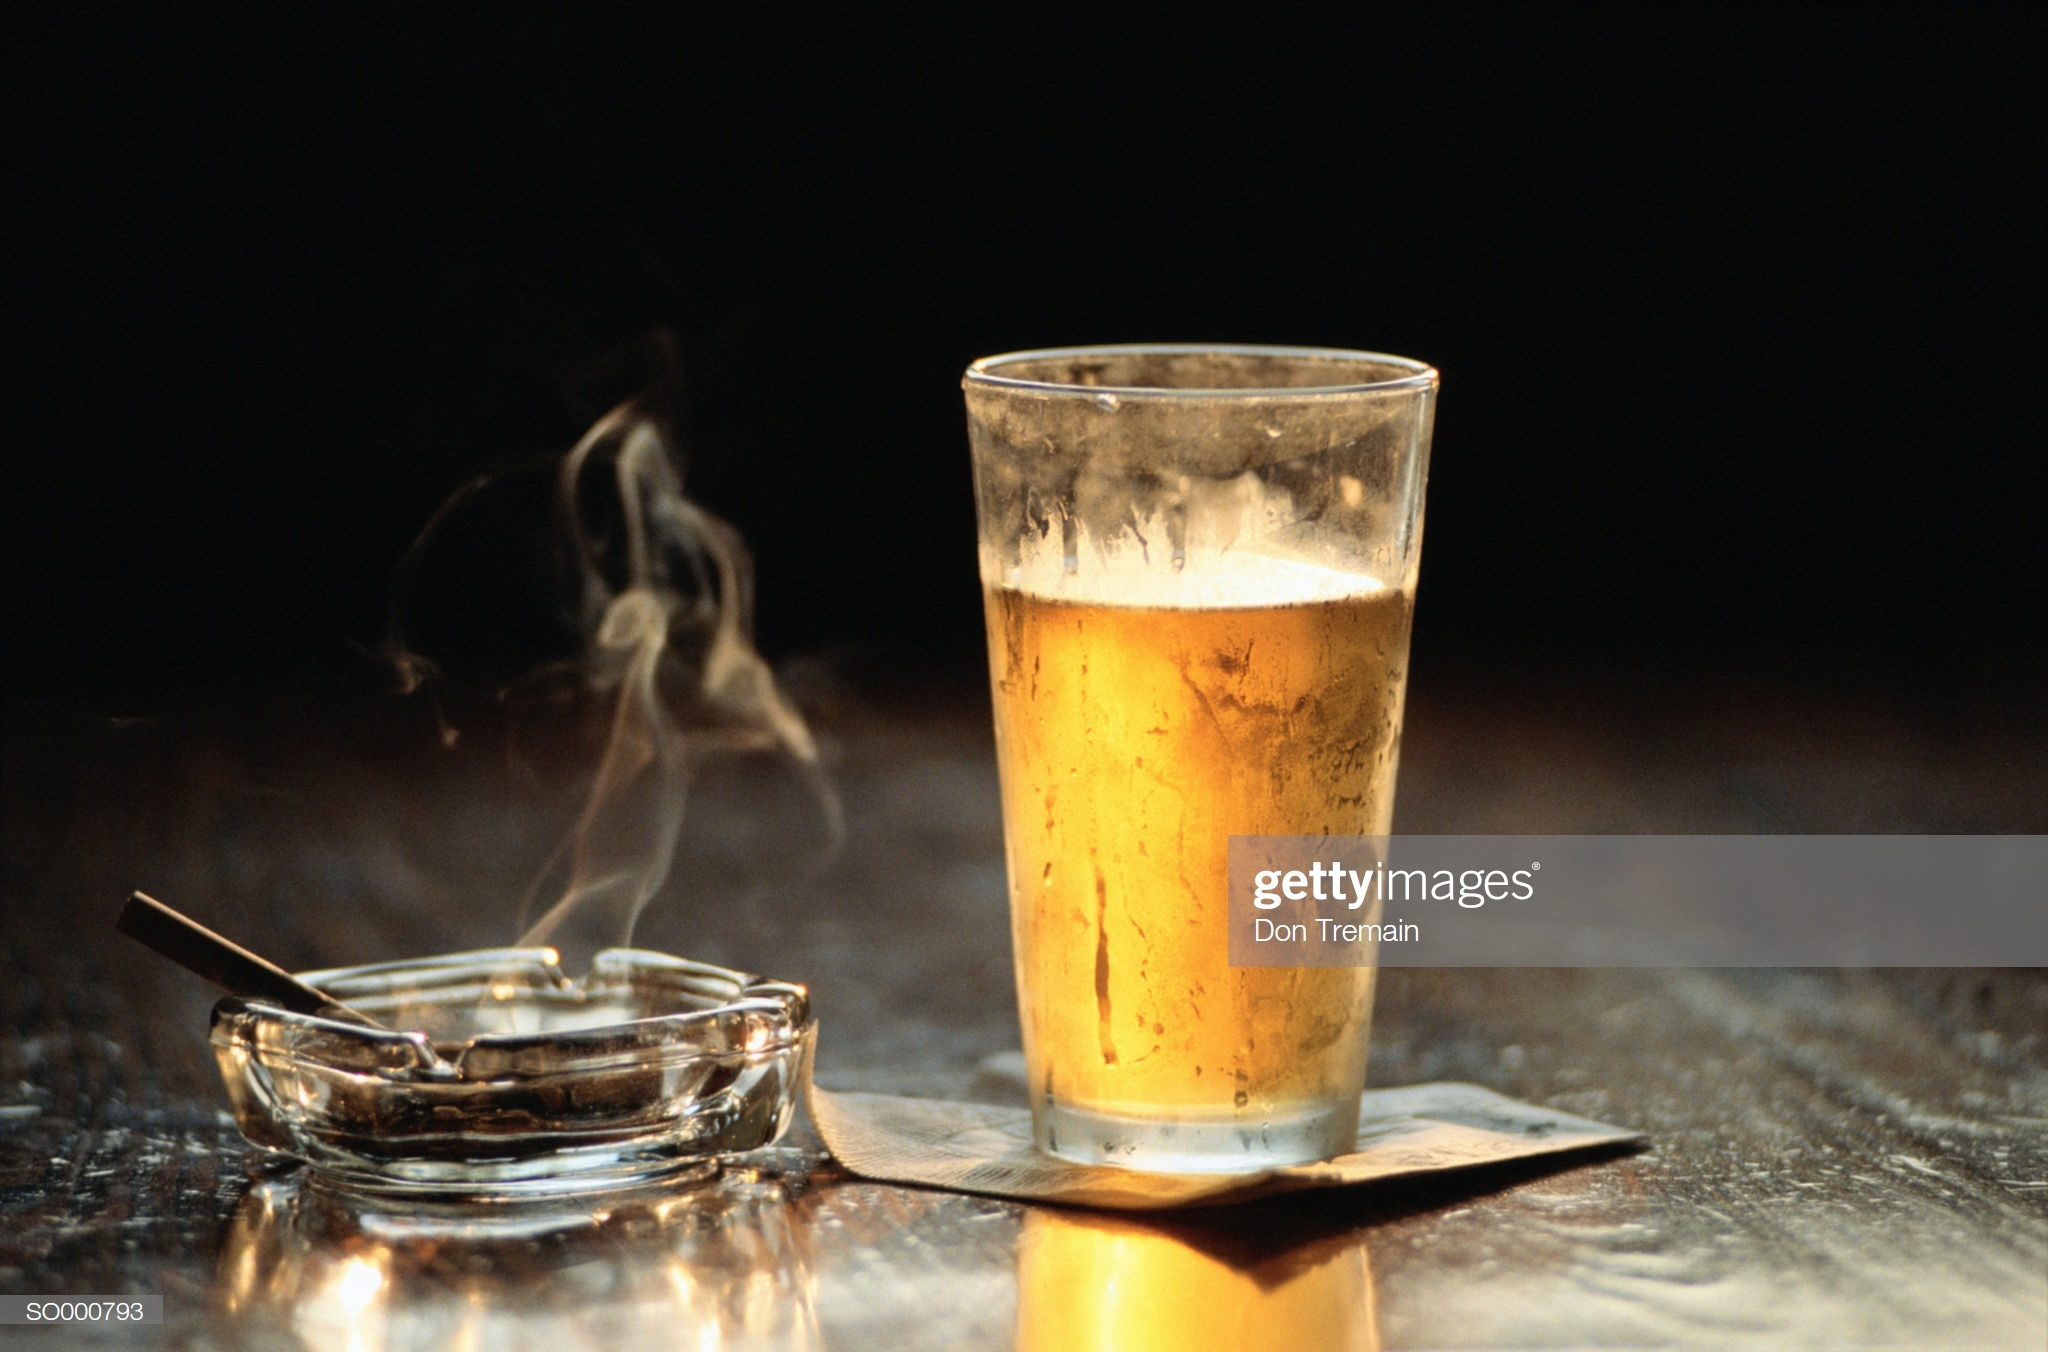glassBeer: (973, 321, 1449, 1162)
